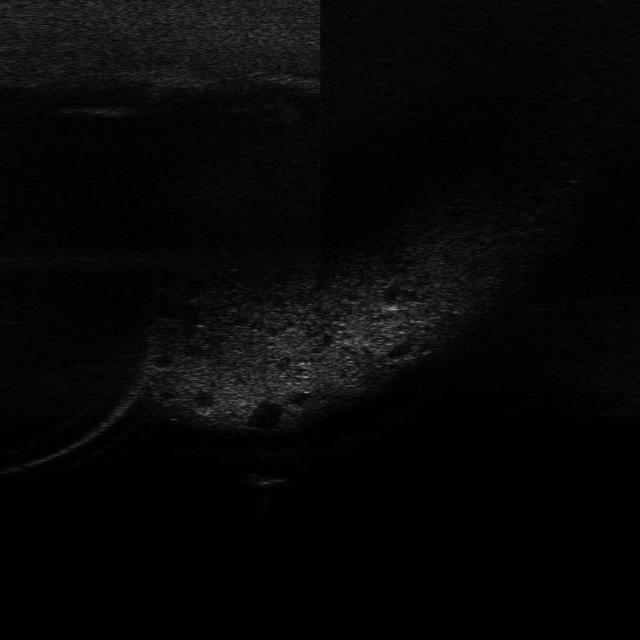cube: (239, 466, 292, 488)
